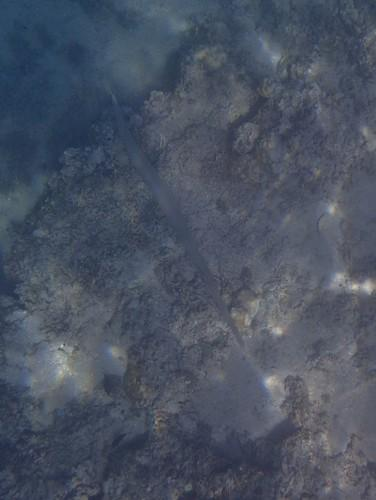Fistularia commersonii: (89, 78, 259, 379)
